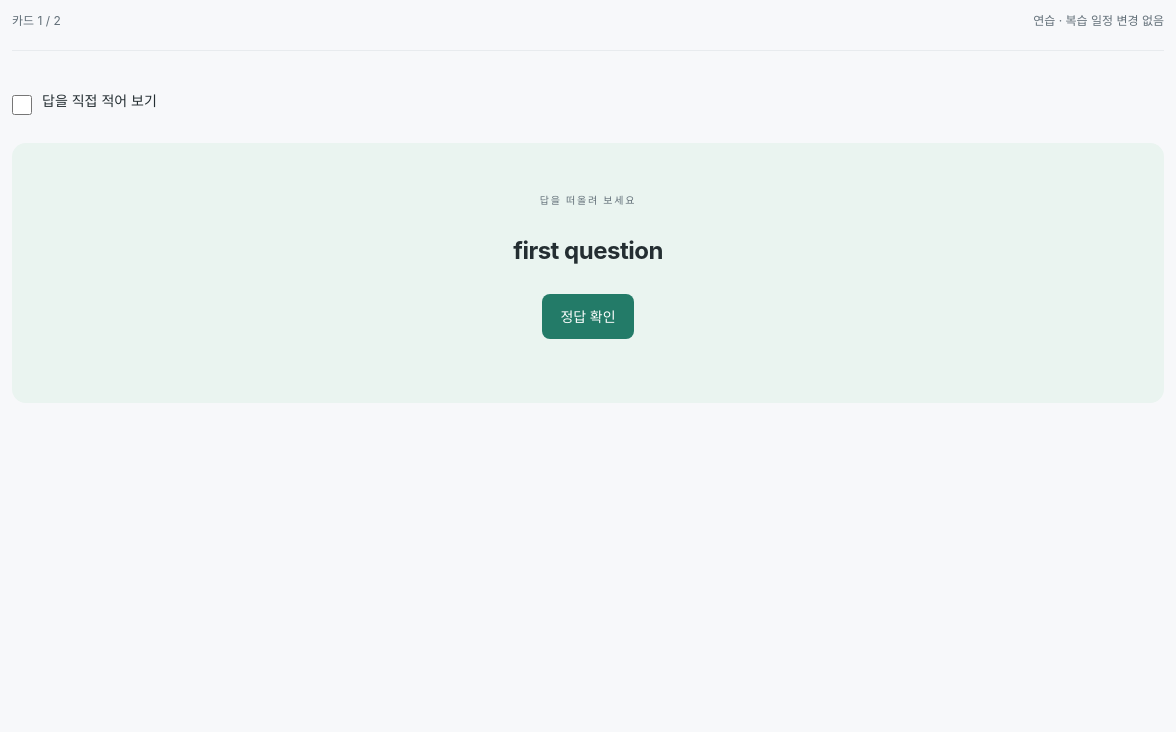
Test: keeps a typed retrieval answer for comparison, clears it on the next card, and practice leaves schedules unchanged
Click the checkbox labelled "답을 직접 적어 보기" at (22, 105), box left=12, top=95, right=32, bottom=115
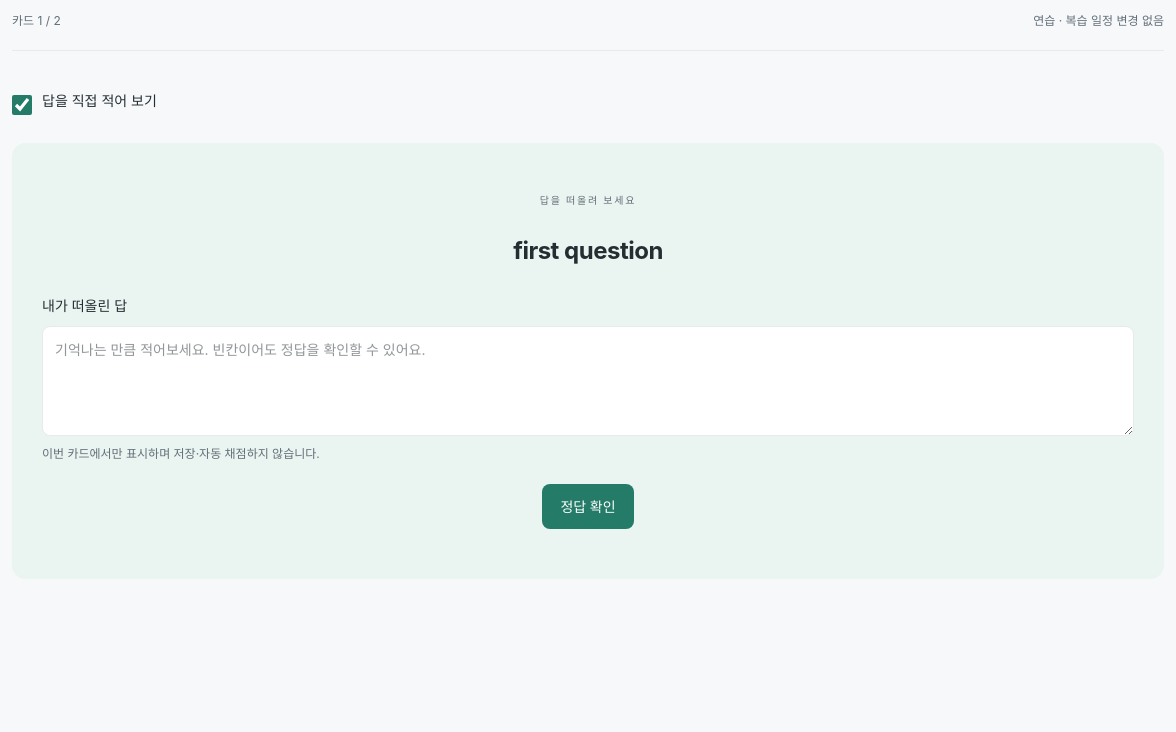
Type "my own answer" into the text box labelled "내가 떠올린 답 이번 카드에서만 표시하며 저장·자동 채점하지 않습니다." at (588, 381), box left=42, top=326, right=1134, bottom=436
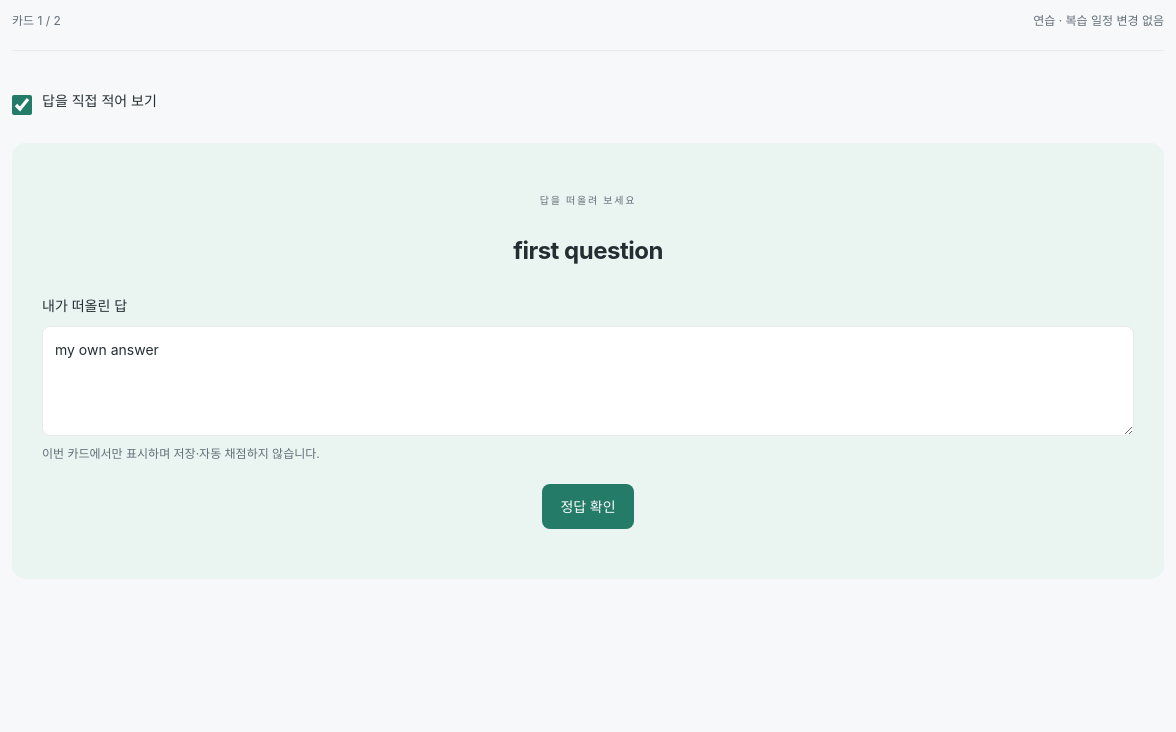
Click the button "정답 확인" at (588, 507), box left=542, top=484, right=634, bottom=529
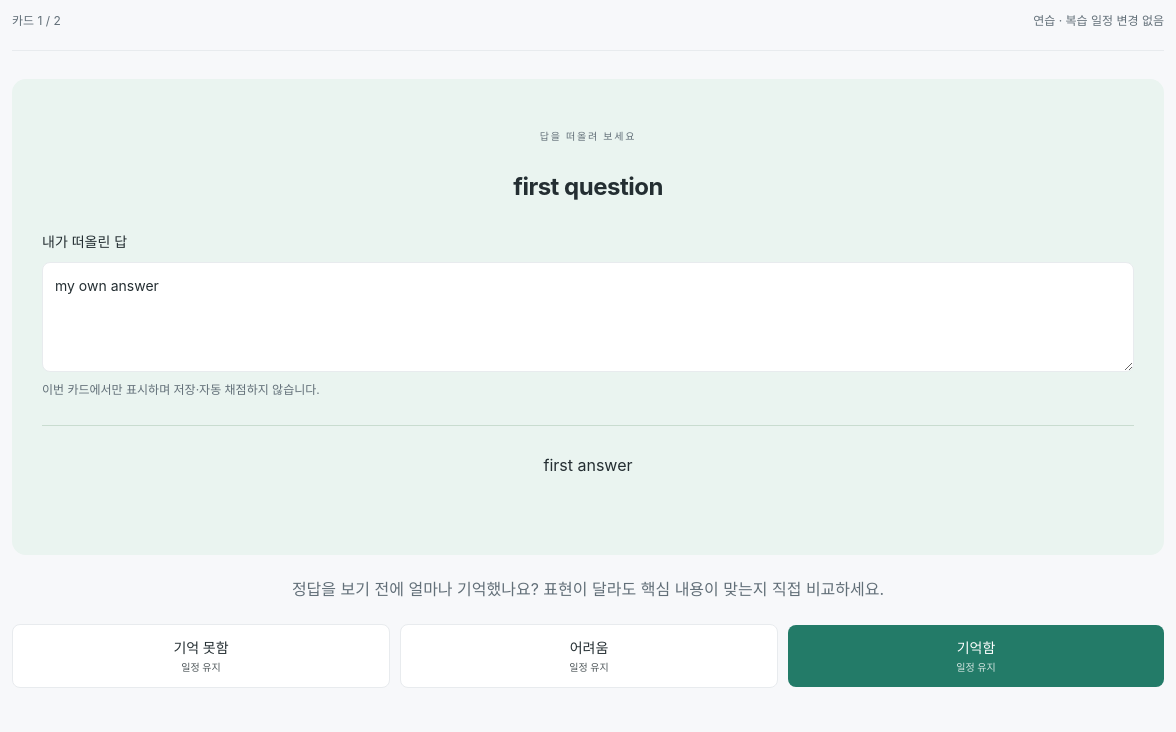
Now the text box has attribute readonly, box left=42, top=262, right=1134, bottom=372
Click the button "기억함 일정 유지" at (976, 656), box left=788, top=625, right=1164, bottom=687
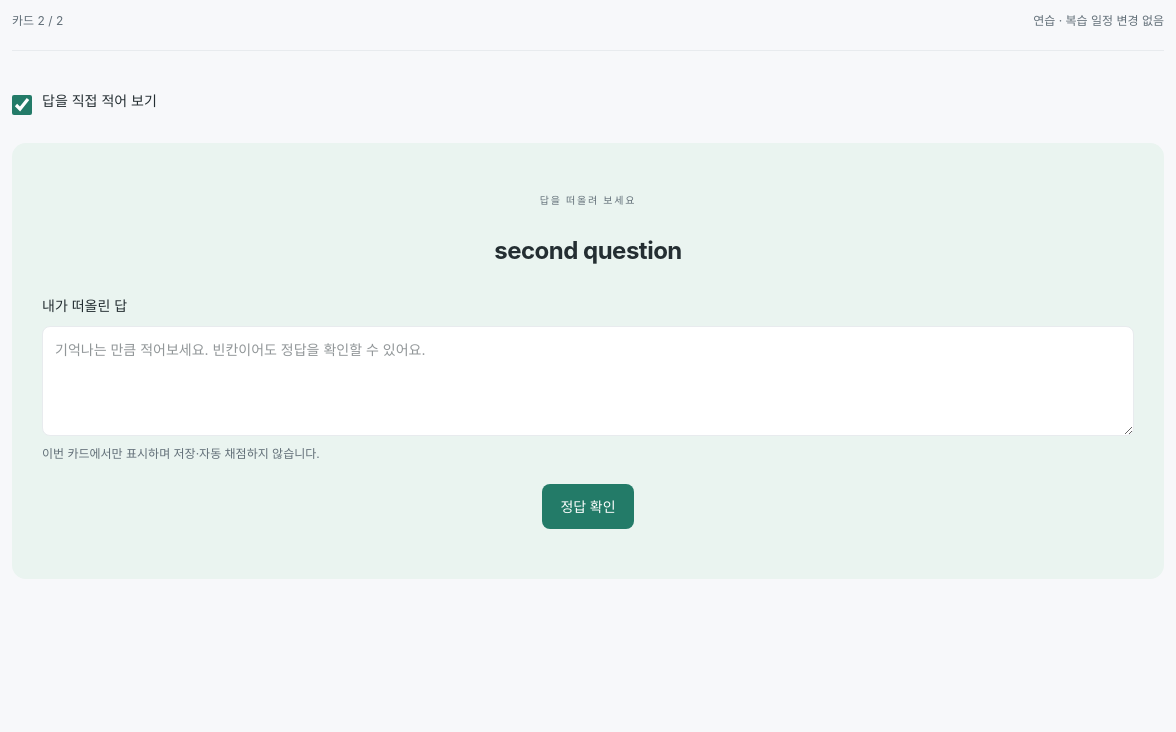
Now the text box is empty, box left=42, top=326, right=1134, bottom=436
